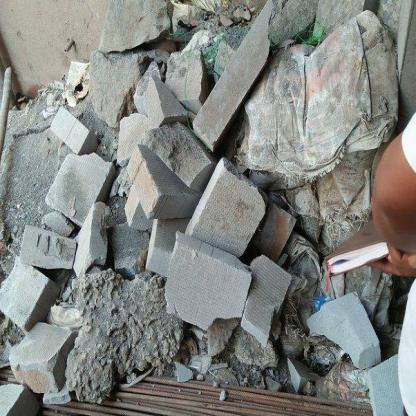brick: (10, 1, 416, 416)
